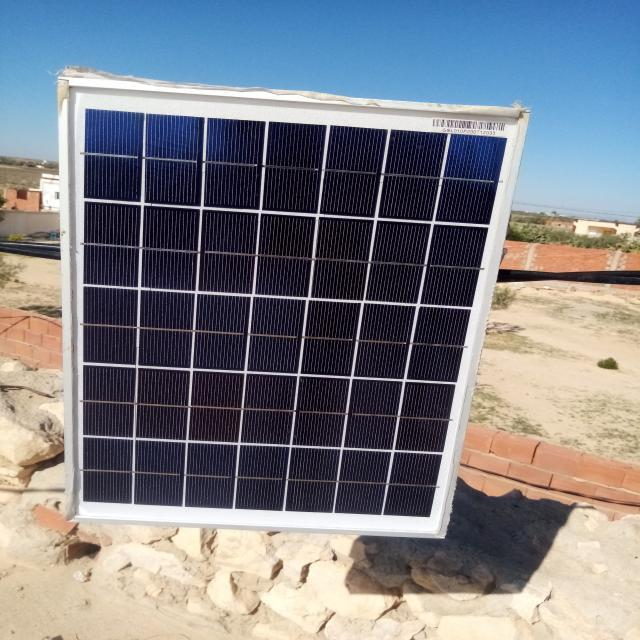Normal Solar Panel: (59, 77, 525, 537)
